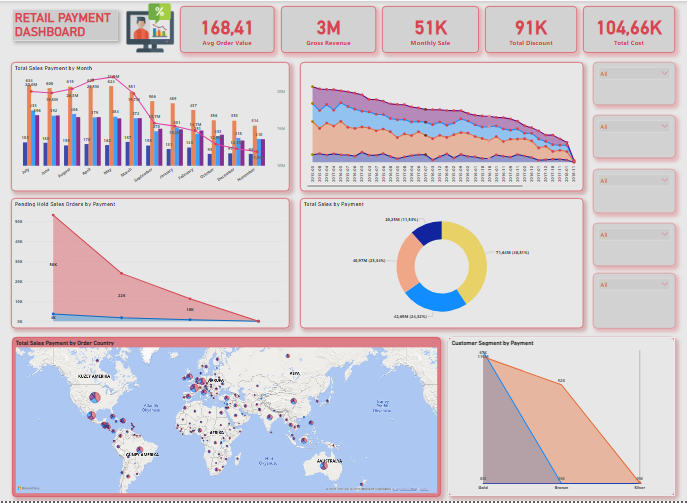

The dashboard page shown, as its layout file describes it:
{"tool":"powerbi","page":{"name":"Payment","canvas":[2000,1450],"ordinal":5},"visuals":[{"type":"textbox","title":"RETAIL PAYMENT DASHBOARD","box":[40.7,25.9,303.7,88.9],"z":0},{"type":"card","fields":{"Values":["_measures.Avg Order Value"]},"box":[523.8,14.3,273.8,135.7],"z":1000},{"type":"card","fields":{"Values":["_measures.Gross Revenue"]},"box":[816.7,14.3,276.2,135.7],"z":2000},{"type":"card","fields":{"Values":["_measures.Monthly Sale"]},"box":[1111.9,14.3,281,135.7],"z":3000},{"type":"card","fields":{"Values":["_measures.Total Discount"]},"box":[1409.5,14.3,266.7,135.7],"z":4000},{"type":"slicer","fields":{"Values":["income_2024.category_name"]},"box":[1722.2,330.6,238.9,125],"z":5000},{"type":"slicer","fields":{"Values":["income_2024.order_country"]},"box":[1722.2,486.1,238.9,127.8],"z":6000},{"type":"slicer","fields":{"Values":["income_2024.customer_segment"]},"box":[1722.2,644.4,238.9,125],"z":7000},{"type":"slicer","fields":{"Values":["Calendar.Year"]},"box":[1722.2,177.8,238.9,125],"z":8000},{"type":"slicer","fields":{"Values":["income_2024.order_region"]},"box":[1722.2,788.9,238.9,161.1],"z":9000},{"type":"lineClusteredColumnComboChart","title":"Total Sales Payment  by Month ","fields":{"Category":["Calendar.Month Name"],"Series":["income_2024.payment_type"],"Y":["CountNonNull(income_2024.payment_type)"],"Y2":["_measures.Total Sales2"]},"box":[36.1,177.8,808.3,375],"z":10000},{"type":"stackedAreaChart","title":"Pending Hold Sales Orders by Payment","fields":{"Category":["income_2024.payment_type"],"Y":["income_2024.Pending Hold Orders","income_2024.Pending Hold Sales"]},"box":[36.1,572.2,808.3,377.8],"z":11000},{"type":"stackedAreaChart","title":"Total Customer Sales by Year-Month","fields":{"Category":["Calendar.Year-Month"],"Series":["income_2024.payment_type"],"Y":["income_2024.total_sales"]},"box":[872.2,177.8,822.2,375],"z":12000},{"type":"map","title":"Total Sales Payment by Order Country","fields":{"Category":["income_2024.order_country"],"Size":["income_2024.total_sales"],"Series":["income_2024.payment_type"]},"box":[38.9,975,1244.4,463.9],"z":13000},{"type":"card","fields":{"Values":["_measures.Total Cost"]},"box":[1694.4,13.9,266.7,136.1],"z":14000},{"type":"donutChart","title":"Total Sales by Payment","fields":{"Category":["income_2024.payment_type"],"Y":["_measures.Total Sales2"]},"box":[872.2,572.2,822.2,377.8],"z":15000},{"type":"areaChart","title":"Customer Segment by Payment","fields":{"Category":["income_2024.Customer Segment"],"Y":["_measures.Total Sales2","_measures.Total Customer"],"Y2":["Sum(income_2024.order_item_total_amount)"]},"box":[1302.8,975,658.3,461.1],"z":16000},{"type":"image","box":[259.3,0,359.3,155.6],"z":18000}]}

Visuals, with their boxes in screenshot pixels (x1, y1, x2, y2), scaled from the page's 2000x1450 canvas onto the 687x503 screenshot:
"RETAIL PAYMENT DASHBOARD" textbox: <bbox>14, 9, 118, 40</bbox>
card - _measures.Avg Order Value: <bbox>180, 5, 274, 52</bbox>
card - _measures.Gross Revenue: <bbox>281, 5, 375, 52</bbox>
card - _measures.Monthly Sale: <bbox>382, 5, 478, 52</bbox>
card - _measures.Total Discount: <bbox>484, 5, 576, 52</bbox>
slicer - income_2024.category_name: <bbox>592, 115, 674, 158</bbox>
slicer - income_2024.order_country: <bbox>592, 169, 674, 213</bbox>
slicer - income_2024.customer_segment: <bbox>592, 224, 674, 267</bbox>
slicer - Calendar.Year: <bbox>592, 62, 674, 105</bbox>
slicer - income_2024.order_region: <bbox>592, 274, 674, 330</bbox>
"Total Sales Payment  by Month " lineClusteredColumnComboChart: <bbox>12, 62, 290, 192</bbox>
"Pending Hold Sales Orders by Payment" stackedAreaChart: <bbox>12, 198, 290, 330</bbox>
"Total Customer Sales by Year-Month" stackedAreaChart: <bbox>300, 62, 582, 192</bbox>
"Total Sales Payment by Order Country" map: <bbox>13, 338, 441, 499</bbox>
card - _measures.Total Cost: <bbox>582, 5, 674, 52</bbox>
"Total Sales by Payment" donutChart: <bbox>300, 198, 582, 330</bbox>
"Customer Segment by Payment" areaChart: <bbox>448, 338, 674, 498</bbox>
image: <bbox>89, 0, 212, 54</bbox>
